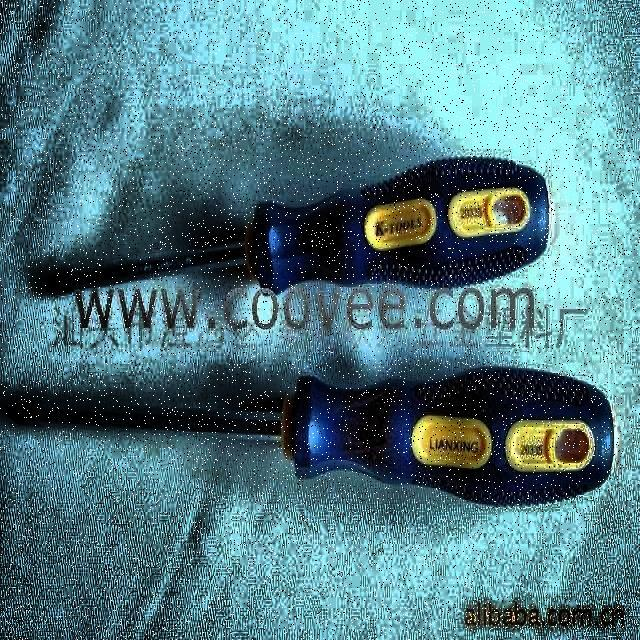screwdriver: (0, 366, 618, 508), (41, 154, 552, 296)
